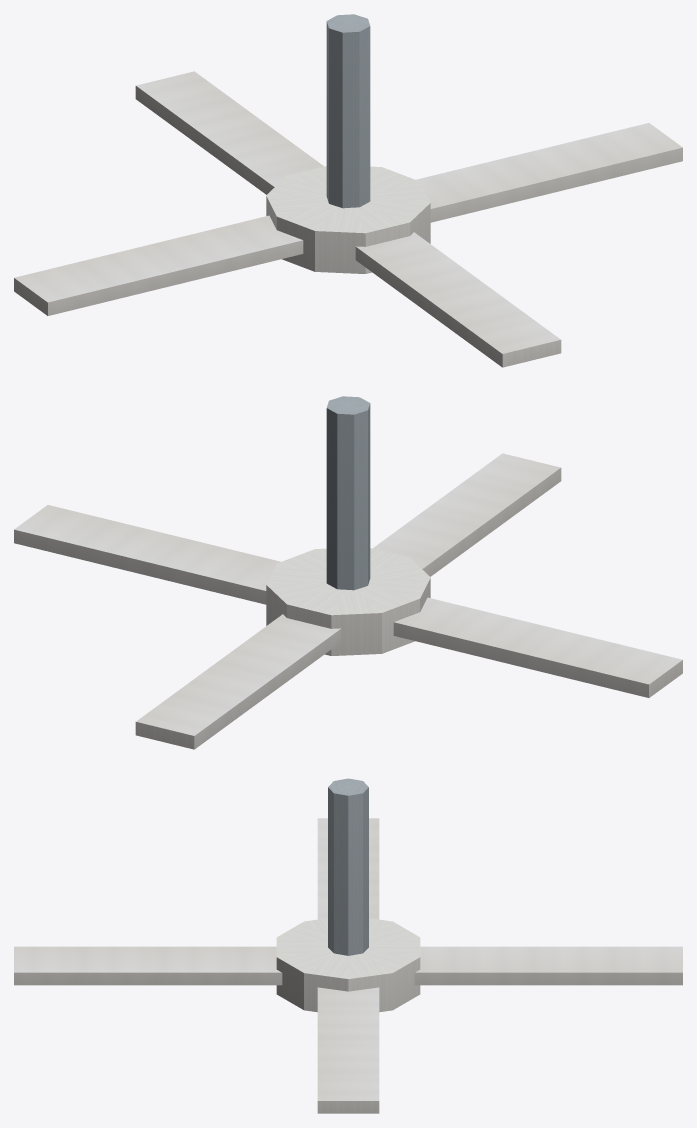
File: ceiling_fan.glb
3 renders of one model, top to bottom at view 1: azimuth 30°, elevation 25°; view 2: azimuth 150°, elevation 25°; view 3: azimuth 270°, elevation 25°, orthographic. The views are drawn at different scales.
Visible parts, largest first — view 1: ceiling_fan; view 2: ceiling_fan; view 3: ceiling_fan.
Part boxes in pixels (x1=…): ceiling_fan: x1=14, y1=14, x2=682, y2=367; ceiling_fan: x1=14, y1=396, x2=682, y2=749; ceiling_fan: x1=14, y1=778, x2=682, y2=1113.
Size of the model in its own units: 1.95 by 0.635 by 1.95.
Materials: 1 (1 with a texture image).
